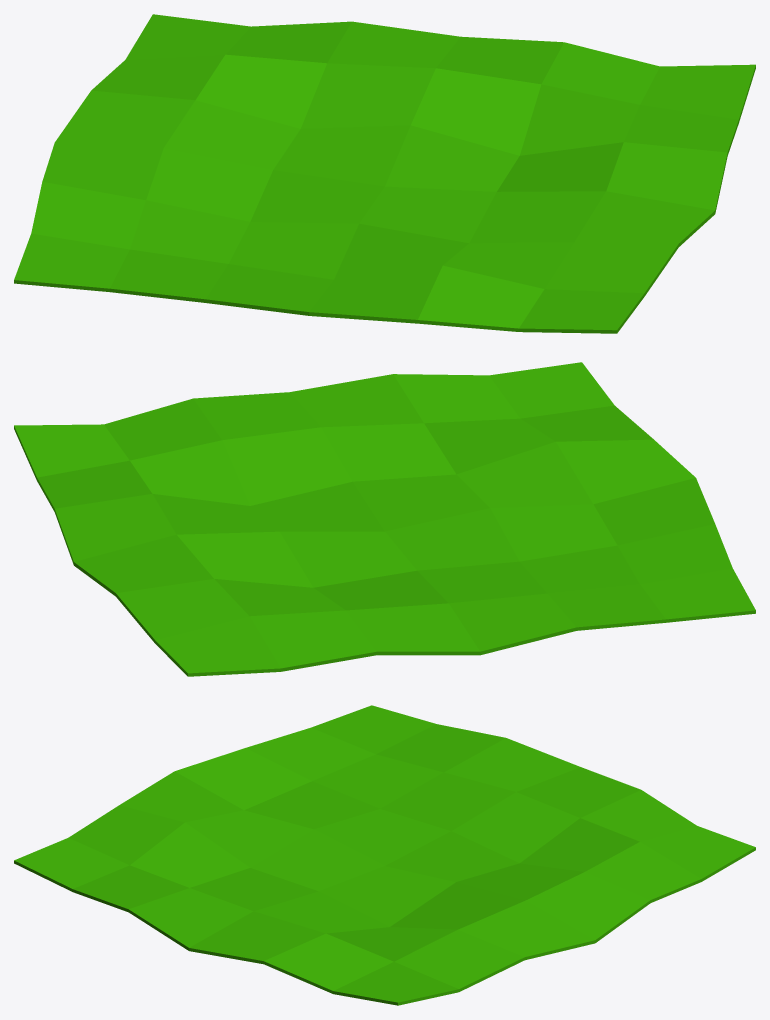
File: Salad.fbx
The picture shows the model from 3 angles, top to bottom: view 1: azimuth 30°, elevation 25°; view 2: azimuth 150°, elevation 25°; view 3: azimuth 270°, elevation 25°; orthographic projection. The views are drawn at different scales.
Parts seen in each view (by area): view 1: Plane.001; view 2: Plane.001; view 3: Plane.001.
Part boxes in pixels (x1,y1,x2,y2): Plane.001: (14, 14, 755, 333); Plane.001: (14, 362, 755, 676); Plane.001: (14, 705, 755, 1005).
Bounding box in the file's own units: 219 × 9.24 × 219.
